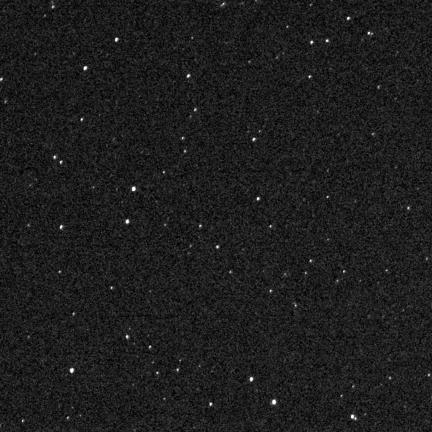blob: (126, 219, 130, 225), (326, 39, 330, 44), (70, 368, 74, 373), (132, 187, 136, 191), (60, 225, 64, 229), (126, 335, 129, 340), (257, 197, 260, 201), (250, 377, 253, 381), (84, 66, 87, 70), (115, 38, 118, 42), (187, 74, 190, 78), (216, 246, 219, 248), (311, 41, 313, 44)
